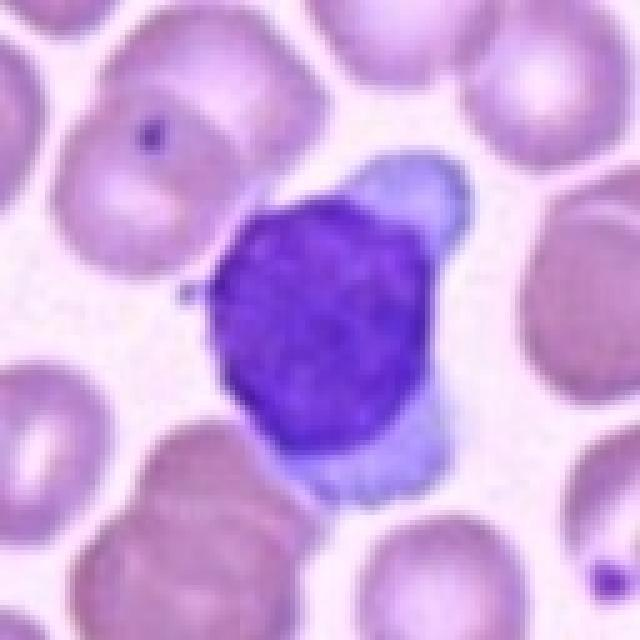lympho: (178, 138, 482, 506)
